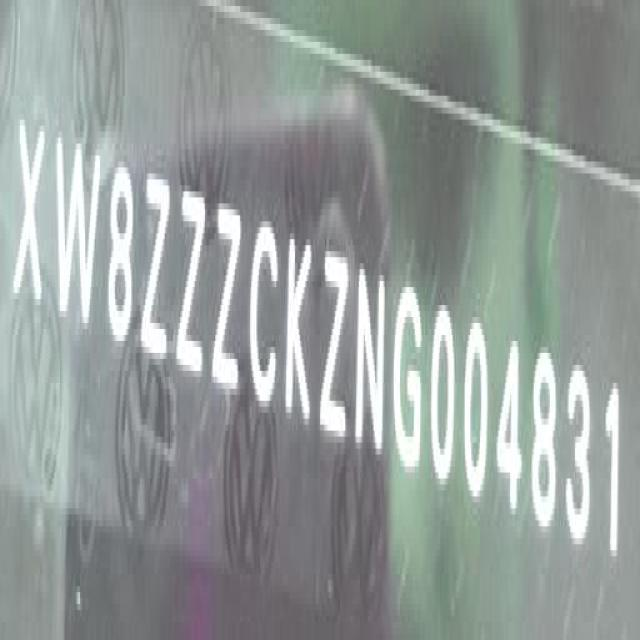0: (462, 311, 491, 514), (428, 297, 457, 495)
1: (604, 378, 624, 572)
3: (564, 352, 594, 553)
4: (497, 333, 525, 528)
8: (530, 338, 560, 538), (109, 151, 136, 354)
C: (250, 212, 281, 420)
G: (393, 274, 426, 484)
K: (286, 222, 316, 438)
N: (352, 262, 388, 468)
W: (52, 123, 103, 338)
X: (13, 110, 47, 317)
Z: (319, 237, 350, 455), (212, 192, 243, 404), (140, 162, 170, 370), (179, 174, 208, 385)
